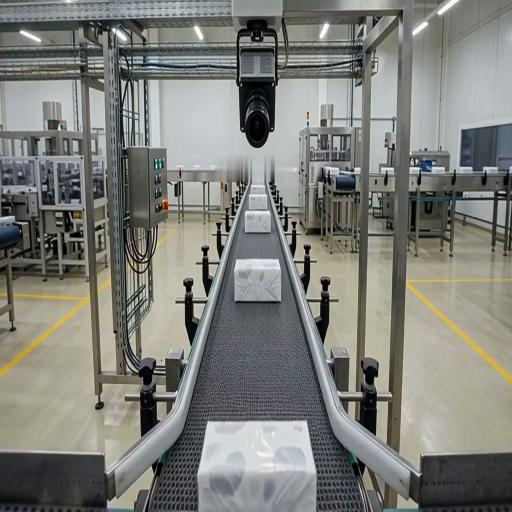good: (198, 420, 316, 512), (233, 258, 282, 302), (244, 210, 272, 234), (247, 193, 268, 211), (249, 184, 266, 194)
